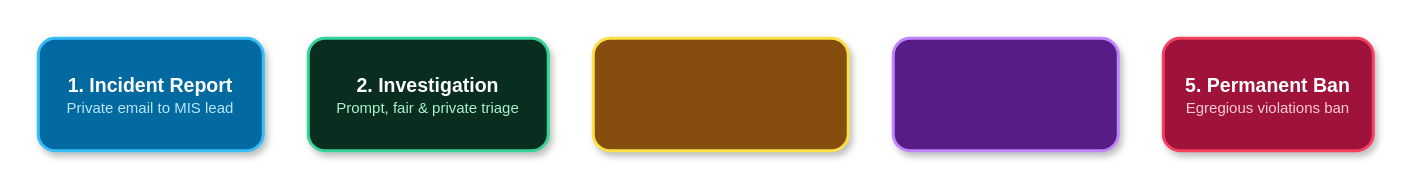
Image size: 1409x188. Some labels were removed from this diagram. The centre of each missing label's shape, as x and y in pixels:
3. Correction / Warning Written warning & guidance: point 721,96
4. Temporary Ban Time-limited project ban: point 1006,96
